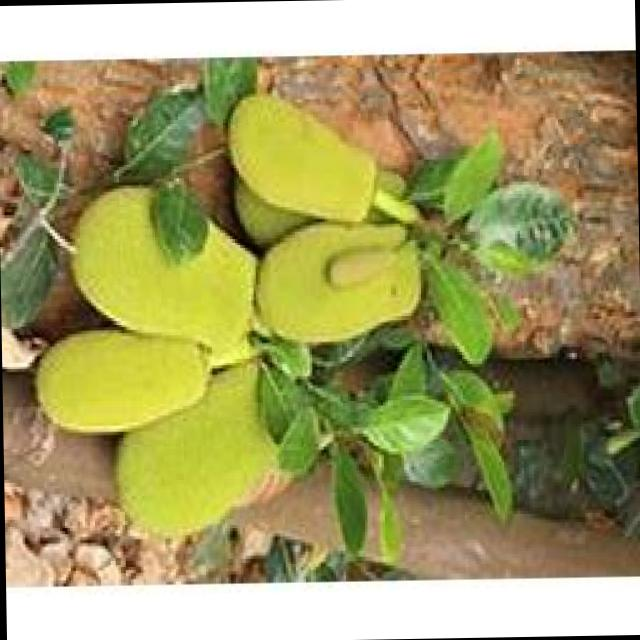Fruit: (222, 145, 454, 380), (4, 294, 238, 455), (200, 79, 392, 239)
